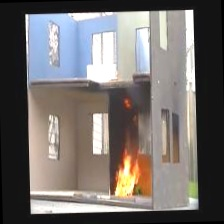fire: (108, 135, 144, 205)
